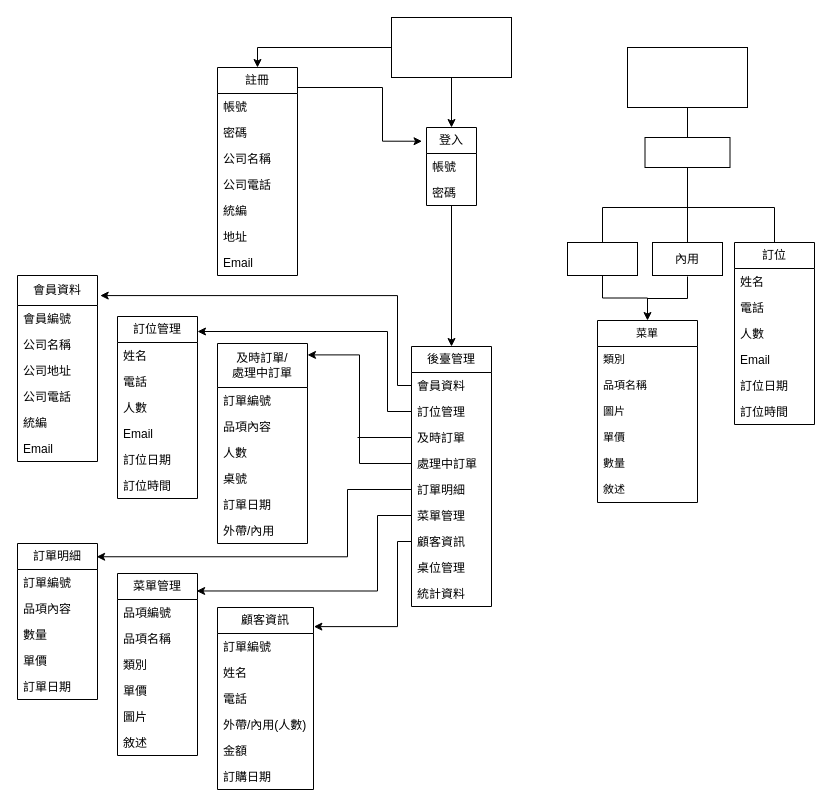
This 832x810 diagram has some shape labels left out. Here are the shapes that lost their labels. From the top down, the centre of each, then its label:
At (x=451, y=47): "網站入口".
At (x=687, y=77): "消費者".
At (x=687, y=152): "第三方登入".
At (x=602, y=259): "外帶".
